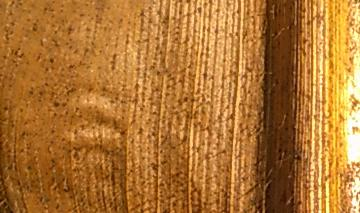tarspot: (108, 53, 118, 72), (291, 151, 303, 162), (350, 124, 360, 136), (196, 5, 203, 19), (47, 56, 56, 66), (137, 8, 145, 19), (16, 52, 25, 61), (60, 101, 69, 109), (31, 22, 38, 32), (52, 101, 60, 109), (78, 12, 86, 20), (296, 199, 303, 207), (26, 164, 33, 172), (38, 38, 44, 47), (67, 26, 73, 35), (214, 7, 221, 14), (43, 81, 50, 87), (43, 66, 49, 73), (42, 6, 47, 14), (3, 106, 9, 112), (184, 1, 192, 5), (13, 50, 18, 56), (207, 1, 213, 5), (178, 1, 182, 4)
